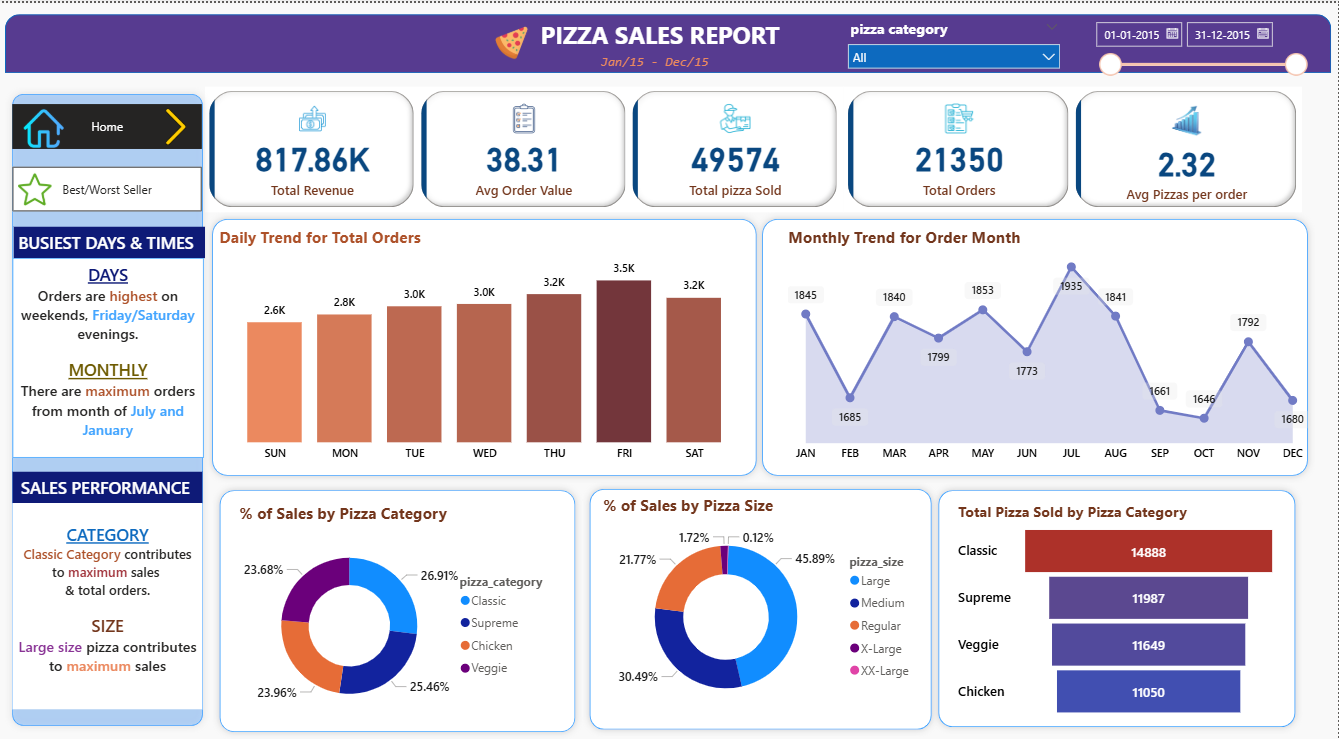

The page's visual inventory and layout, read from the dashboard file:
{"tool":"powerbi","page":{"name":"Home","canvas":[1500,825],"ordinal":0},"visuals":[{"type":"cardVisual","fields":{"Data":["pizza_sales.Total Revenue","pizza_sales.Avg Order Value","pizza_sales.Total pizza Sold"]},"box":[229.8,93.3,715.8,140.7],"z":0},{"type":"cardVisual","fields":{"Data":["pizza_sales.Total Orders","pizza_sales.Avg Pizzas per order"]},"box":[945.6,93.3,513.9,140.7],"z":1000},{"type":"shape","box":[5.6,12.6,1486.6,65.9],"z":2000},{"type":"textbox","box":[587.1,12.6,305.5,47.6],"z":3000},{"type":"textbox","box":[668.4,51.8,142.9,51.8],"z":4000},{"type":"image","box":[494.6,21,158.3,47.6],"z":5000},{"type":"shape","box":[229.8,234,626.3,304.1],"z":6000},{"type":"columnChart","title":"Daily Trend for Total Orders","fields":{"Category":["pizza_sales.Order Day"],"Y":["pizza_sales.Total Orders"]},"box":[241,250.8,605.3,271.8],"z":7000},{"type":"shape","box":[846.3,234,627.7,304.1],"z":8000},{"type":"areaChart","title":"Monthly Trend for  Order Month","fields":{"Category":["pizza_sales.Order Month"],"Y":["pizza_sales.Total Orders"]},"box":[878.5,250.8,595.5,271.8],"z":9000},{"type":"shape","box":[652.9,536.6,399.3,285.8],"z":10000},{"type":"shape","box":[1043.9,538,416.1,281.6],"z":11000},{"type":"shape","box":[238.2,538,414.7,287.2],"z":12000},{"type":"donutChart","title":"% of Sales by Pizza Category","fields":{"Category":["pizza_sales.pizza_category"],"Y":["pizza_sales.Total Revenue"]},"box":[263.4,560.5,365.7,257.8],"z":13000},{"type":"shape","box":[5.6,93.9,229.8,724.4],"z":14000},{"type":"funnel","title":"Total Pizza Sold by Pizza Category  ","fields":{"Category":["pizza_sales.pizza_category"],"Y":["pizza_sales.Total pizza Sold"]},"box":[1069.1,559.1,367.1,246.6],"z":15000},{"type":"textbox","box":[15.4,250.8,214.4,35],"z":16000},{"type":"textbox","box":[14,285.8,214.4,224.2],"z":17000},{"type":"textbox","box":[14,525.4,213,35],"z":18000},{"type":"textbox","box":[14,560.5,213,231.2],"z":19000},{"type":"donutChart","title":"% of Sales by Pizza Size","fields":{"Y":["pizza_sales.Total Revenue"],"Category":["pizza_sales.pizza_size"]},"box":[671.2,550.7,365.7,257.8],"z":20000},{"type":"slicer","fields":{"Values":["pizza_sales.pizza_category"]},"box":[940.2,12.6,257.8,67.3],"z":21000},{"type":"slicer","fields":{"Values":["pizza_sales.order_date"]},"box":[1216.2,11.2,257.8,92.5],"z":22000},{"type":"pageNavigator","box":[14,113.5,213,50.4],"z":23000},{"type":"pageNavigator","box":[14,183.6,213,50.4],"z":24000},{"type":"image","box":[158.3,113.5,77.1,50.4],"z":25000},{"type":"image","box":[15.4,113.5,67.3,54.6],"z":26000},{"type":"image","box":[15.4,176.5,47.6,64.5],"z":27000}]}

Visuals, with their boxes in screenshot pixels (x1, y1, x2, y2), scaled from the page's 1500x825 canvas onto the 1339x739 screenshot:
cardVisual - pizza_sales.Total Revenue x pizza_sales.Avg Order Value: (left=205, top=84, right=844, bottom=210)
cardVisual - pizza_sales.Total Orders x pizza_sales.Avg Pizzas per order: (left=844, top=84, right=1303, bottom=210)
shape: (left=5, top=11, right=1332, bottom=70)
textbox: (left=524, top=11, right=797, bottom=54)
textbox: (left=597, top=46, right=724, bottom=93)
image: (left=442, top=19, right=583, bottom=61)
shape: (left=205, top=210, right=764, bottom=482)
"Daily Trend for Total Orders" columnChart: (left=215, top=225, right=755, bottom=468)
shape: (left=755, top=210, right=1316, bottom=482)
"Monthly Trend for  Order Month" areaChart: (left=784, top=225, right=1316, bottom=468)
shape: (left=583, top=481, right=939, bottom=737)
shape: (left=932, top=482, right=1303, bottom=734)
shape: (left=213, top=482, right=583, bottom=738)
"% of Sales by Pizza Category" donutChart: (left=235, top=502, right=562, bottom=733)
shape: (left=5, top=84, right=210, bottom=733)
"Total Pizza Sold by Pizza Category  " funnel: (left=954, top=501, right=1282, bottom=722)
textbox: (left=14, top=225, right=205, bottom=256)
textbox: (left=12, top=256, right=204, bottom=457)
textbox: (left=12, top=471, right=203, bottom=502)
textbox: (left=12, top=502, right=203, bottom=709)
"% of Sales by Pizza Size" donutChart: (left=599, top=493, right=926, bottom=724)
slicer - pizza_sales.pizza_category: (left=839, top=11, right=1069, bottom=72)
slicer - pizza_sales.order_date: (left=1086, top=10, right=1316, bottom=93)
pageNavigator: (left=12, top=102, right=203, bottom=147)
pageNavigator: (left=12, top=164, right=203, bottom=210)
image: (left=141, top=102, right=210, bottom=147)
image: (left=14, top=102, right=74, bottom=151)
image: (left=14, top=158, right=56, bottom=216)
